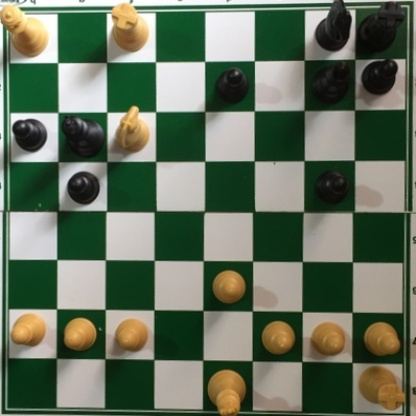black-bishop: (308, 58, 353, 104)
black-king: (59, 112, 104, 157)
black-knight: (314, 1, 353, 55)
black-pawn: (359, 58, 400, 96), (11, 116, 49, 154), (215, 66, 249, 107), (66, 169, 101, 207), (314, 169, 349, 205)
black-rook: (355, 1, 404, 55)
white-king: (202, 366, 247, 416)
white-knight: (113, 100, 150, 156)
white-pawn: (62, 314, 100, 355), (361, 319, 399, 359), (309, 318, 346, 358), (211, 268, 247, 307), (8, 313, 48, 348), (260, 319, 296, 355), (113, 319, 148, 354)
white-queen: (1, 2, 52, 56)
white-rook: (353, 361, 406, 412), (105, 1, 148, 54)
